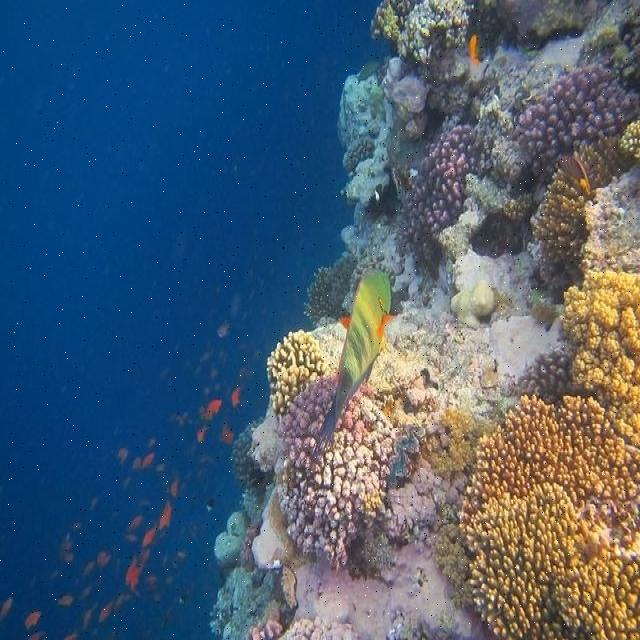fish: (312, 270, 399, 450)
reefs: (433, 269, 639, 639), (266, 334, 400, 566), (522, 63, 639, 169), (399, 125, 483, 242), (532, 178, 587, 264)
